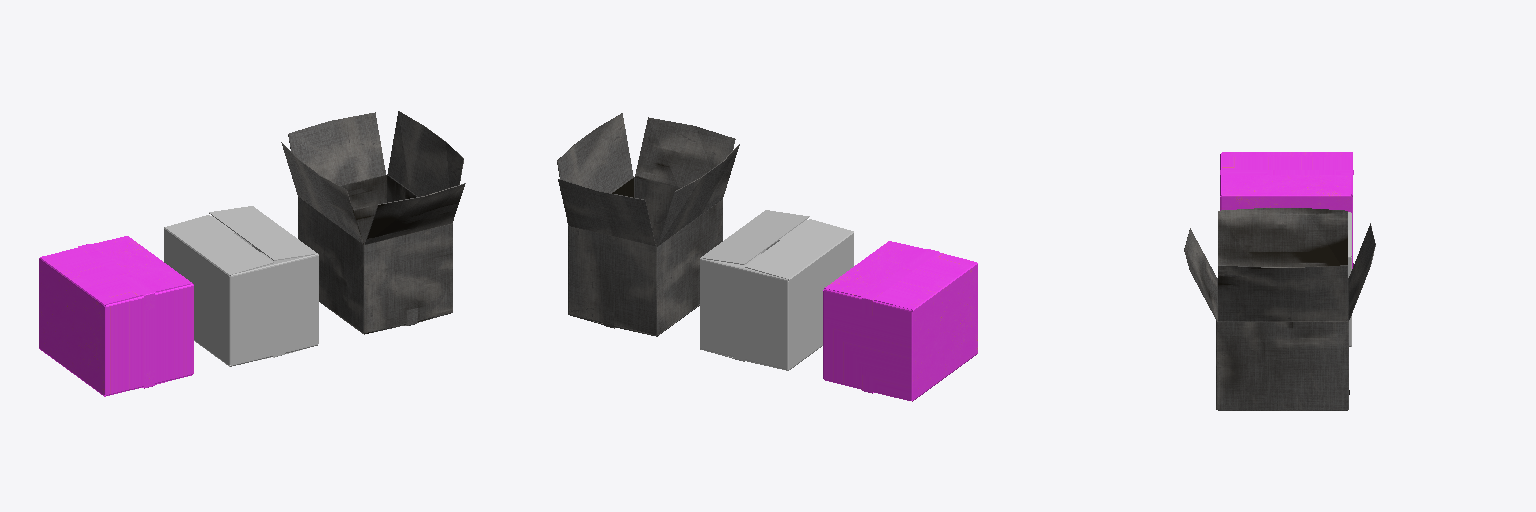
The picture shows the model from 3 angles: view 1: azimuth 30°, elevation 25°; view 2: azimuth 150°, elevation 25°; view 3: azimuth 270°, elevation 25°; orthographic projection.
Visible parts, largest first — view 1: Object_8, Object_10, Object_9, Object_2; view 2: Object_8, Object_10, Object_9, Object_2; view 3: Object_8, Object_10, Object_2.
Boxes of the visible parts, x1=… form: Object_8: x1=281, y1=111, x2=465, y2=334; Object_10: x1=39, y1=236, x2=193, y2=396; Object_9: x1=164, y1=206, x2=318, y2=366; Object_2: x1=78, y1=244, x2=154, y2=310; Object_8: x1=557, y1=113, x2=739, y2=336; Object_10: x1=823, y1=241, x2=977, y2=401; Object_9: x1=700, y1=210, x2=853, y2=370; Object_2: x1=862, y1=249, x2=938, y2=315; Object_8: x1=1184, y1=208, x2=1375, y2=410; Object_10: x1=1220, y1=152, x2=1353, y2=268; Object_2: x1=1220, y1=170, x2=1353, y2=174.
Size of the model in its own units: 1.68 by 0.683 by 0.7721.
Materials: 4 (2 with a texture image).